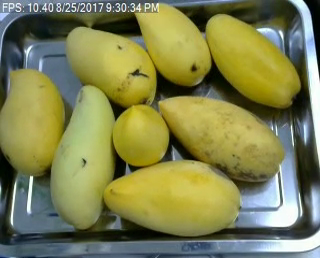Mango: (157, 96, 285, 183), (104, 157, 245, 235), (50, 85, 116, 230), (207, 11, 303, 108), (64, 25, 157, 106), (0, 68, 64, 177), (131, 0, 211, 86), (111, 104, 170, 163)
